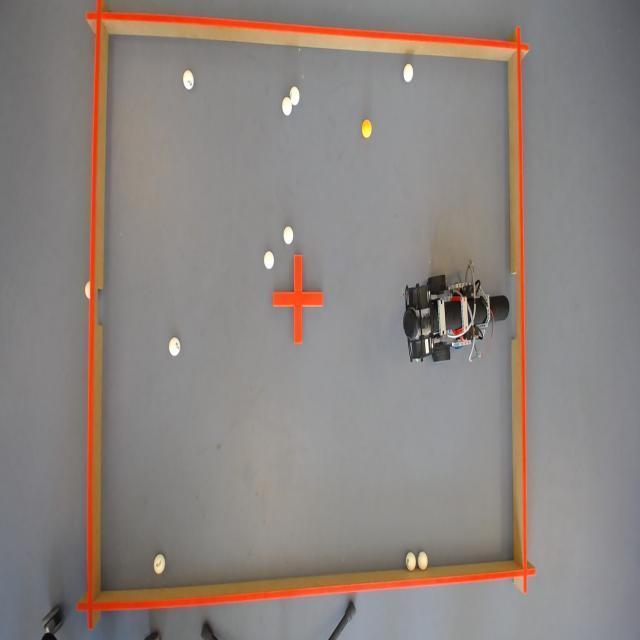orange: (362, 118, 374, 139)
robot: (398, 271, 506, 365)
white: (182, 68, 196, 91), (153, 551, 165, 574), (404, 552, 417, 571), (282, 224, 294, 244), (263, 251, 275, 271), (414, 549, 426, 569), (168, 337, 180, 356), (280, 94, 291, 114), (403, 62, 414, 82), (290, 83, 300, 104)
